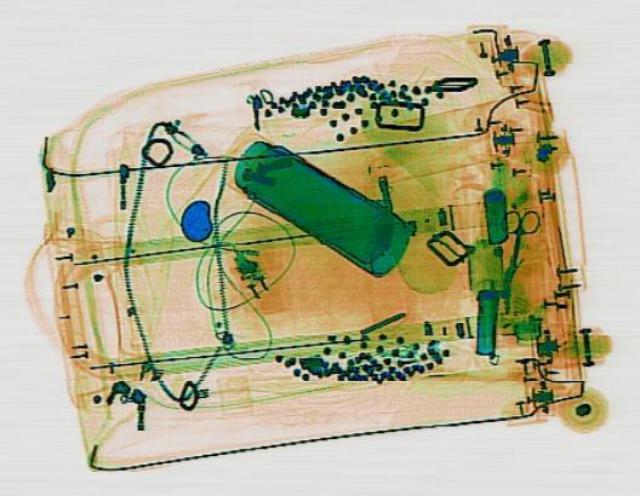Scissors: (492, 208, 542, 268)
